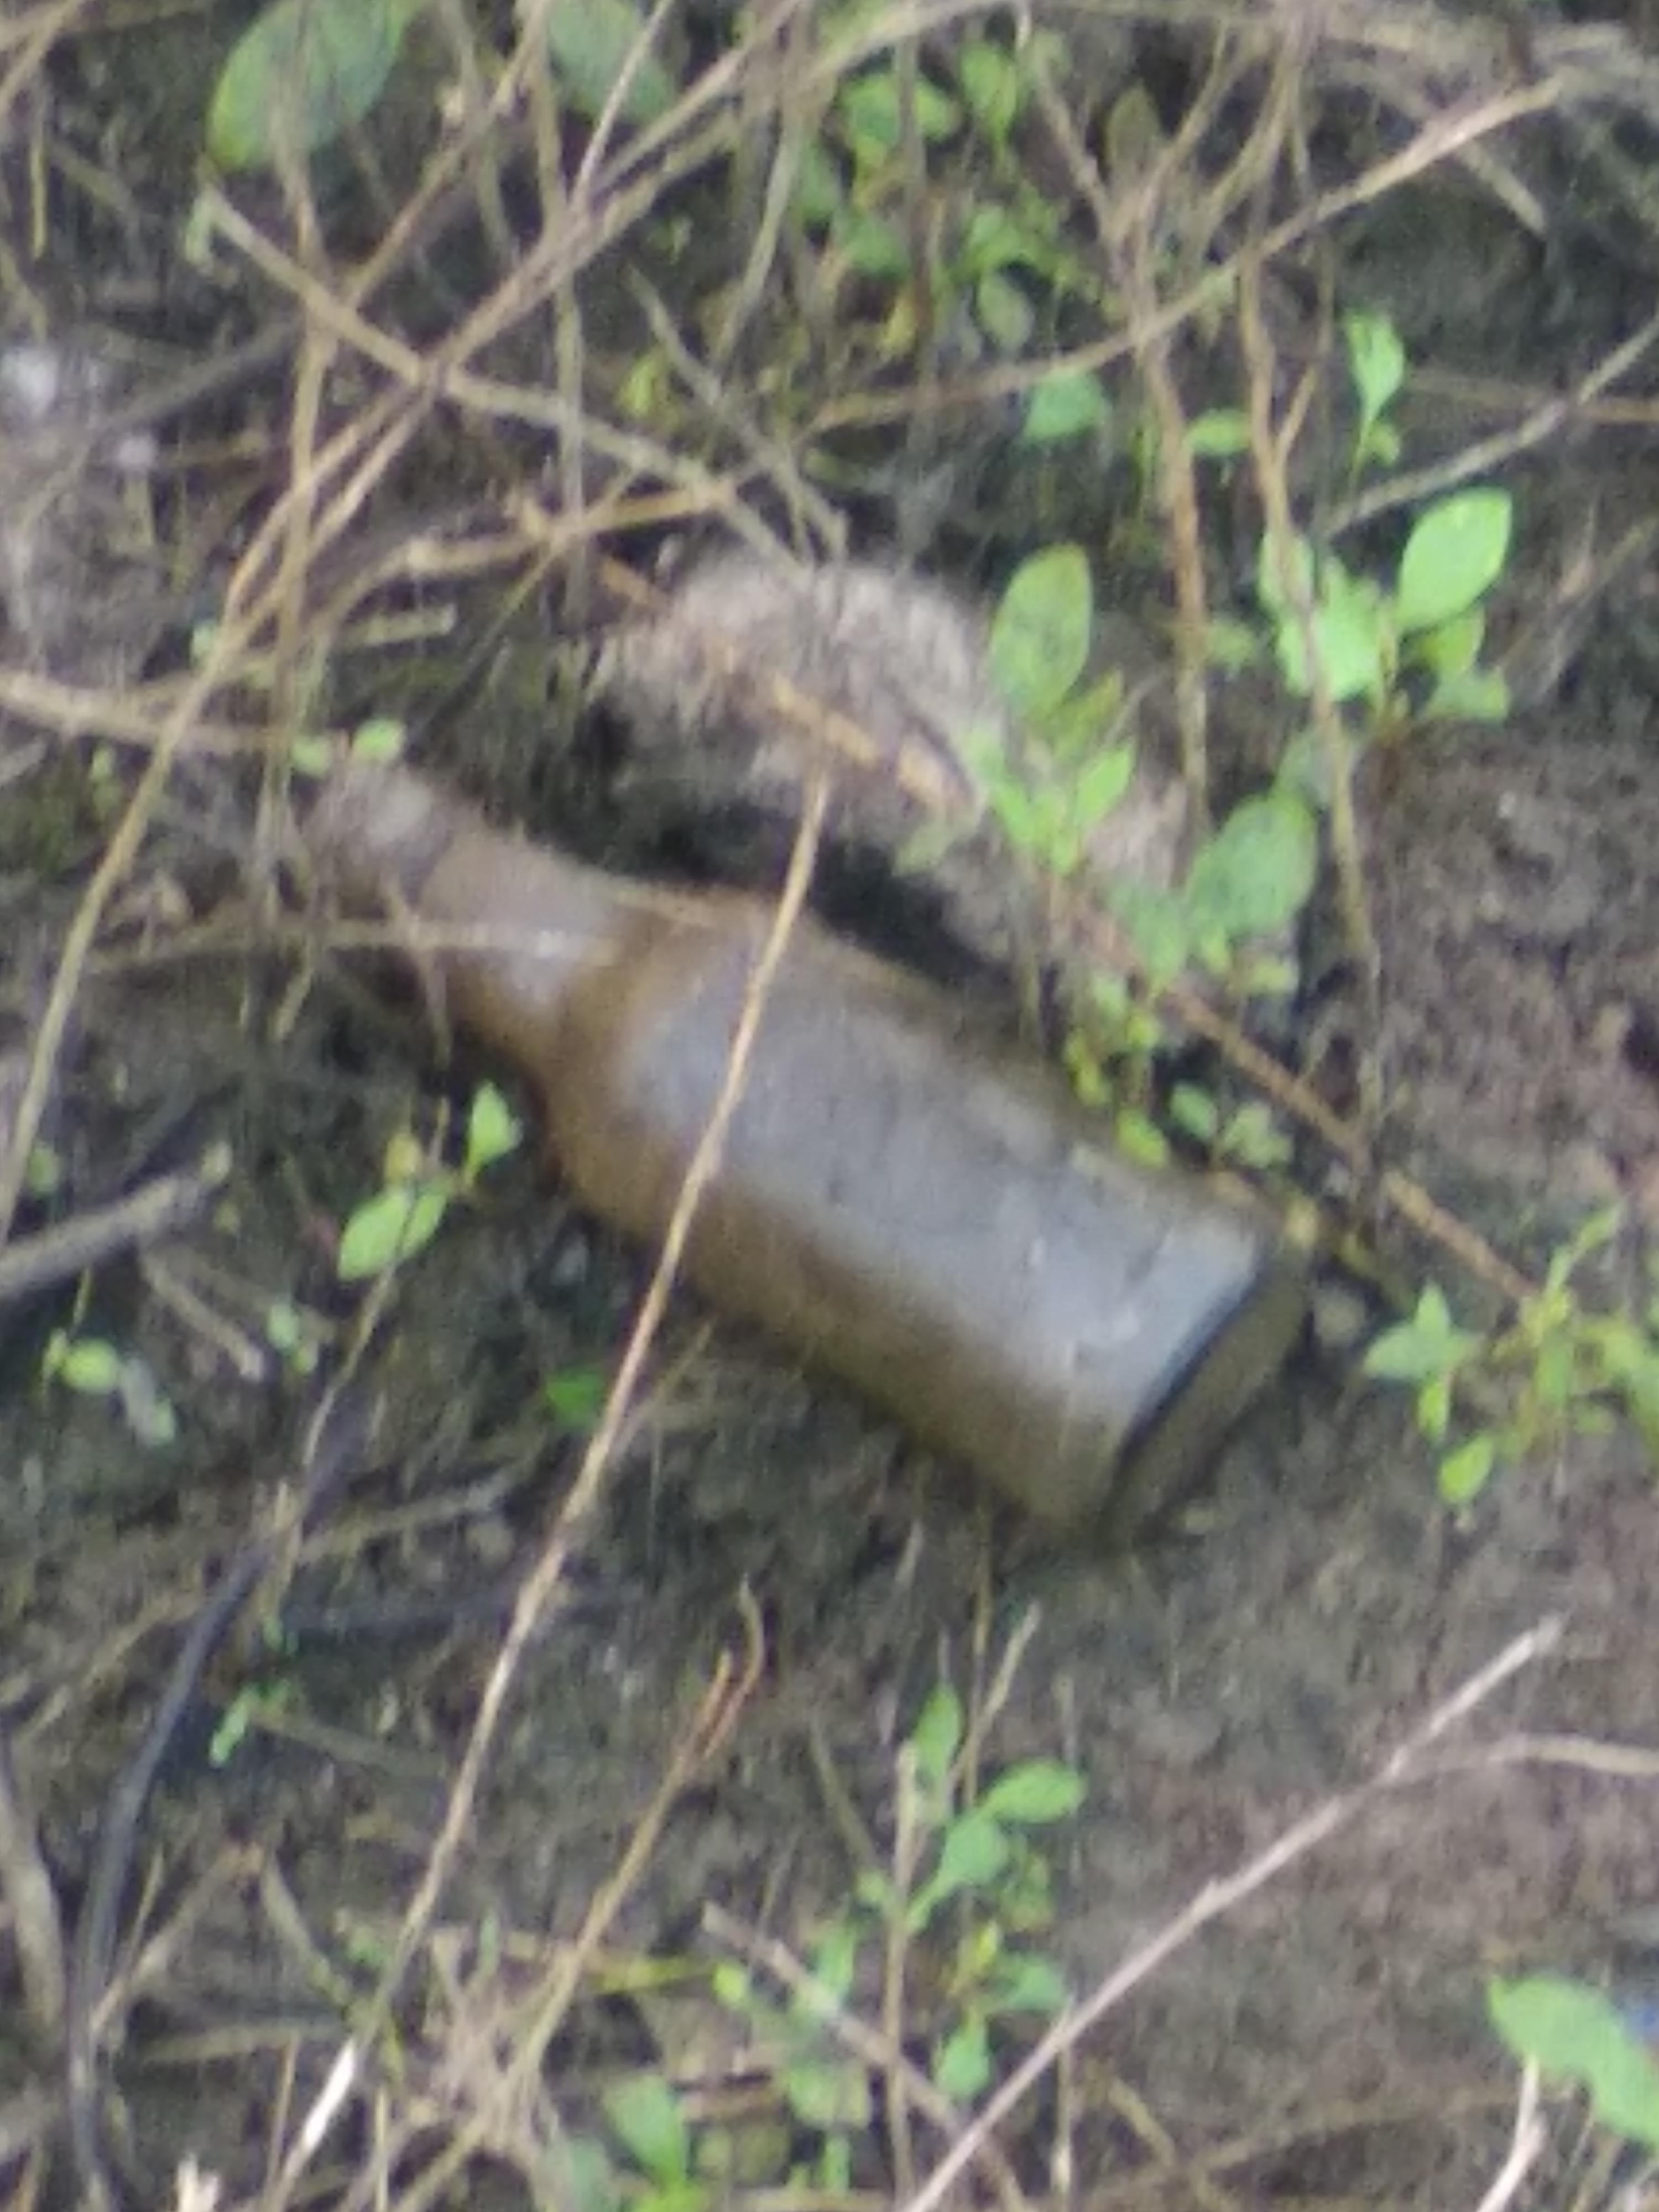trash: (260, 712, 1335, 1566)
